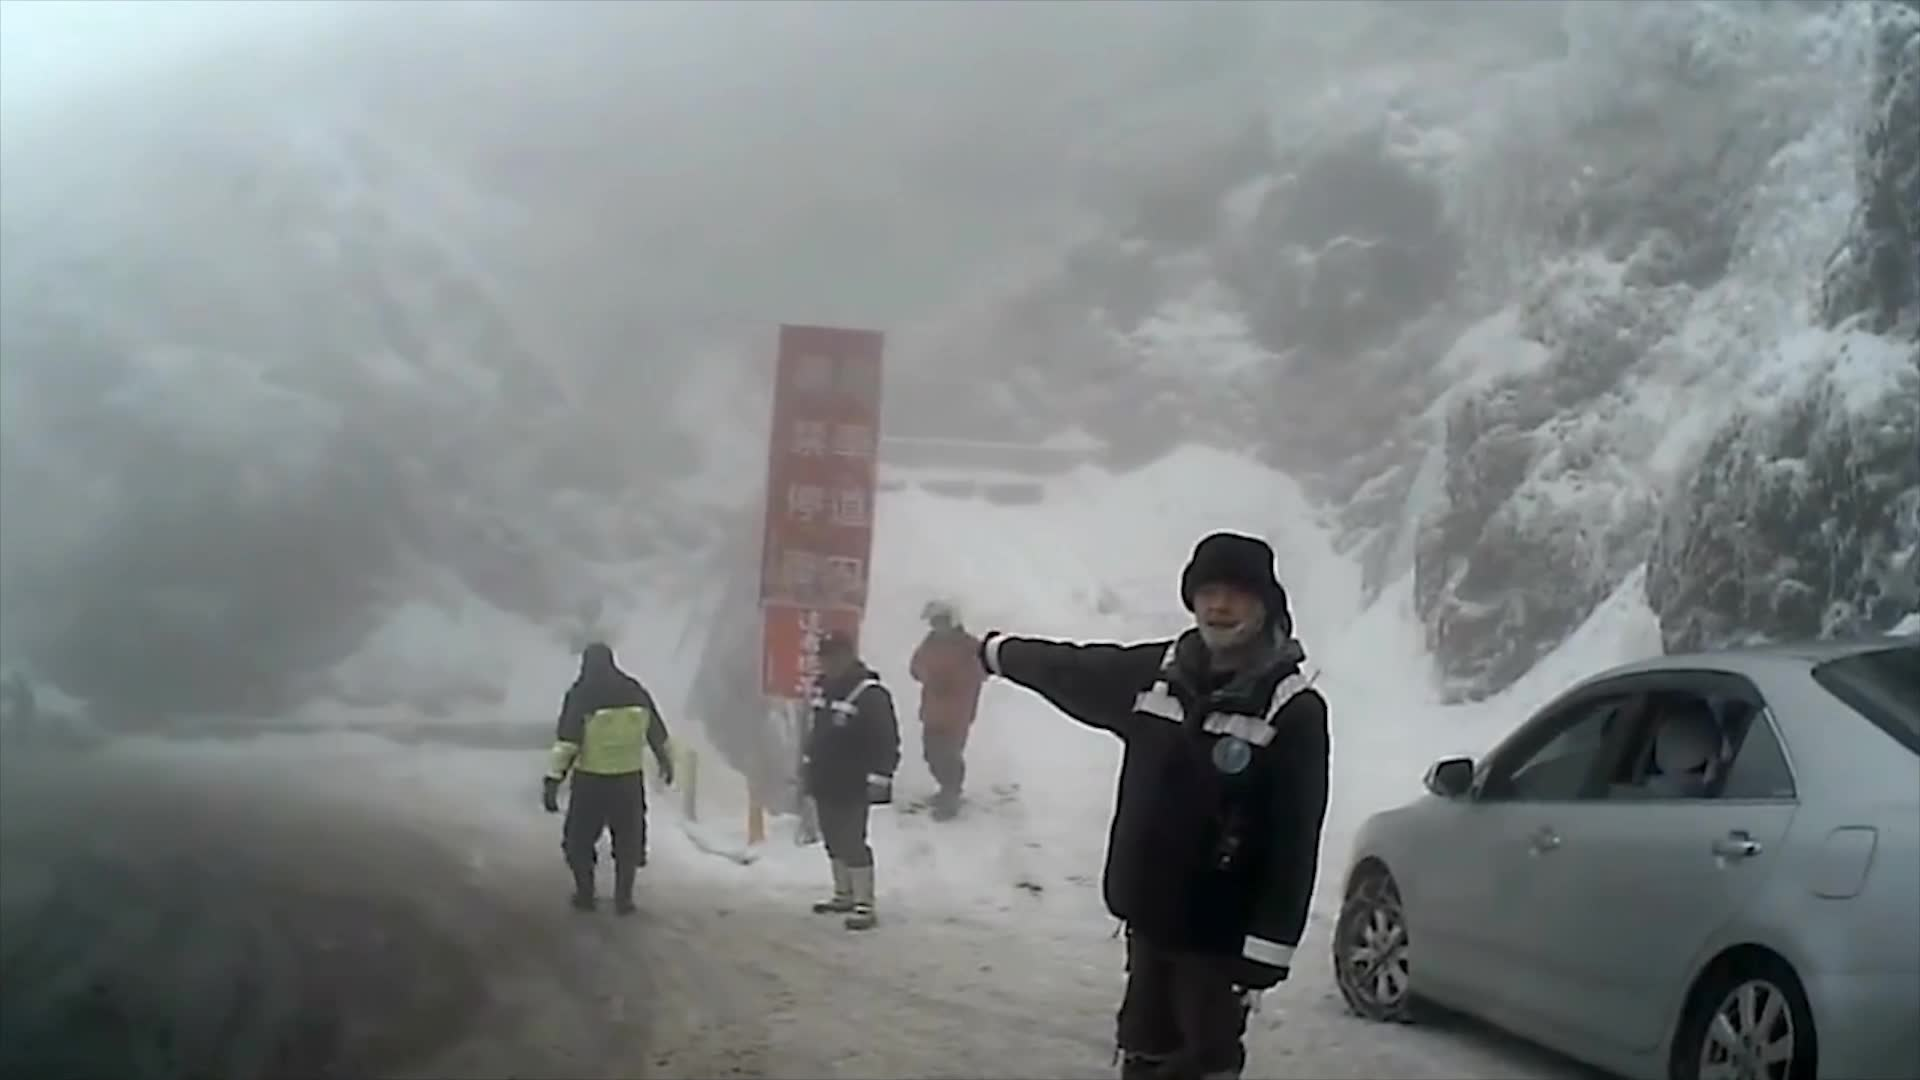pedestrian: (976, 532, 1331, 1080), (534, 649, 685, 918), (794, 630, 899, 933), (906, 598, 992, 822)
vehicle: (1330, 635, 1920, 1080)
